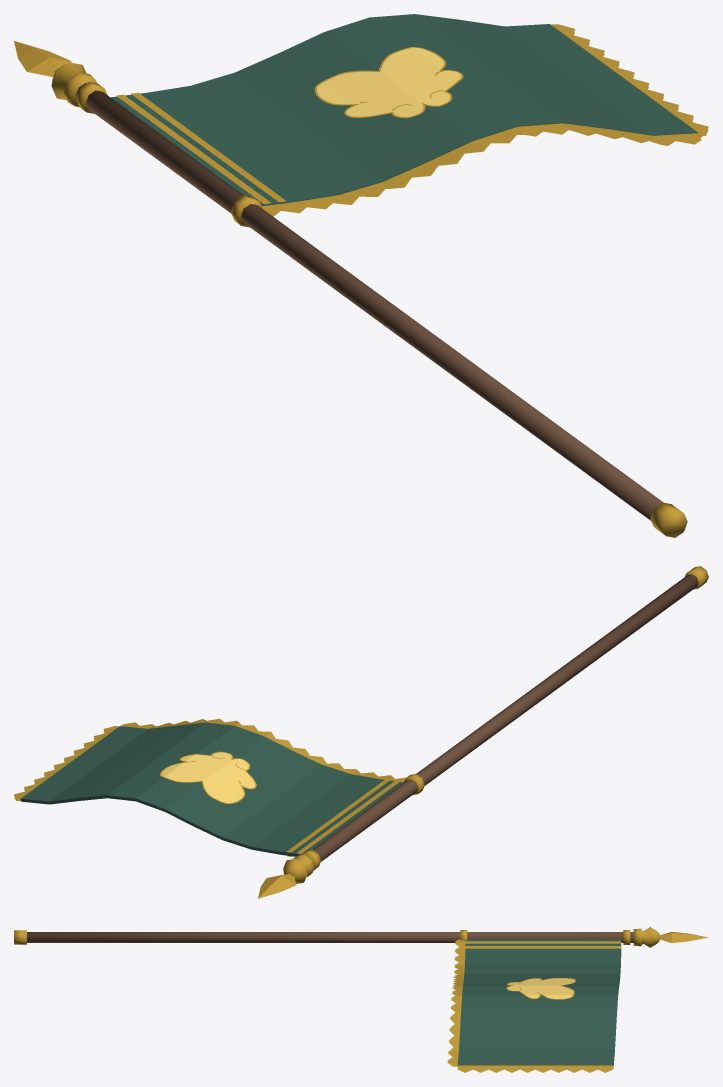
The model's file is cine_holywar_banner.glb.
The picture shows the model from 3 angles, top to bottom: view 1: azimuth 30°, elevation 25°; view 2: azimuth 150°, elevation 25°; view 3: azimuth 270°, elevation 25°; orthographic projection. The views are drawn at different scales.
Visible parts, largest first — view 1: cine_holywar_banner_erf_green, cine_holywar_banner_erf_pole, cine_holywar_banner_erf_gold_detail, cine_holywar_banner_erf_yellow_under_detail, cine_holywar_banner_erf_gold_under_detail; view 2: cine_holywar_banner_erf_green, cine_holywar_banner_erf_pole, cine_holywar_banner_erf_gold_detail, cine_holywar_banner_erf_yellow_under_detail, cine_holywar_banner_erf_gold_under_detail; view 3: cine_holywar_banner_erf_green, cine_holywar_banner_erf_pole, cine_holywar_banner_erf_gold_detail, cine_holywar_banner_erf_gold_under_detail, cine_holywar_banner_erf_yellow_under_detail.
Boxes of the visible parts, x1,y1,x2,y2 form: cine_holywar_banner_erf_green: (110, 14, 697, 205); cine_holywar_banner_erf_pole: (76, 83, 663, 520); cine_holywar_banner_erf_gold_detail: (14, 24, 708, 537); cine_holywar_banner_erf_yellow_under_detail: (317, 47, 461, 116); cine_holywar_banner_erf_gold_under_detail: (116, 47, 463, 203); cine_holywar_banner_erf_green: (20, 722, 403, 856); cine_holywar_banner_erf_pole: (312, 574, 698, 861); cine_holywar_banner_erf_gold_detail: (14, 566, 708, 898); cine_holywar_banner_erf_yellow_under_detail: (161, 752, 255, 803); cine_holywar_banner_erf_gold_under_detail: (160, 751, 399, 856); cine_holywar_banner_erf_green: (457, 939, 621, 1065); cine_holywar_banner_erf_pole: (27, 932, 633, 942); cine_holywar_banner_erf_gold_detail: (14, 927, 708, 1072); cine_holywar_banner_erf_gold_under_detail: (465, 941, 621, 999); cine_holywar_banner_erf_yellow_under_detail: (507, 978, 574, 999).
Bounding box in the file's own units: 1.24 × 0.1336 × 2.92.
